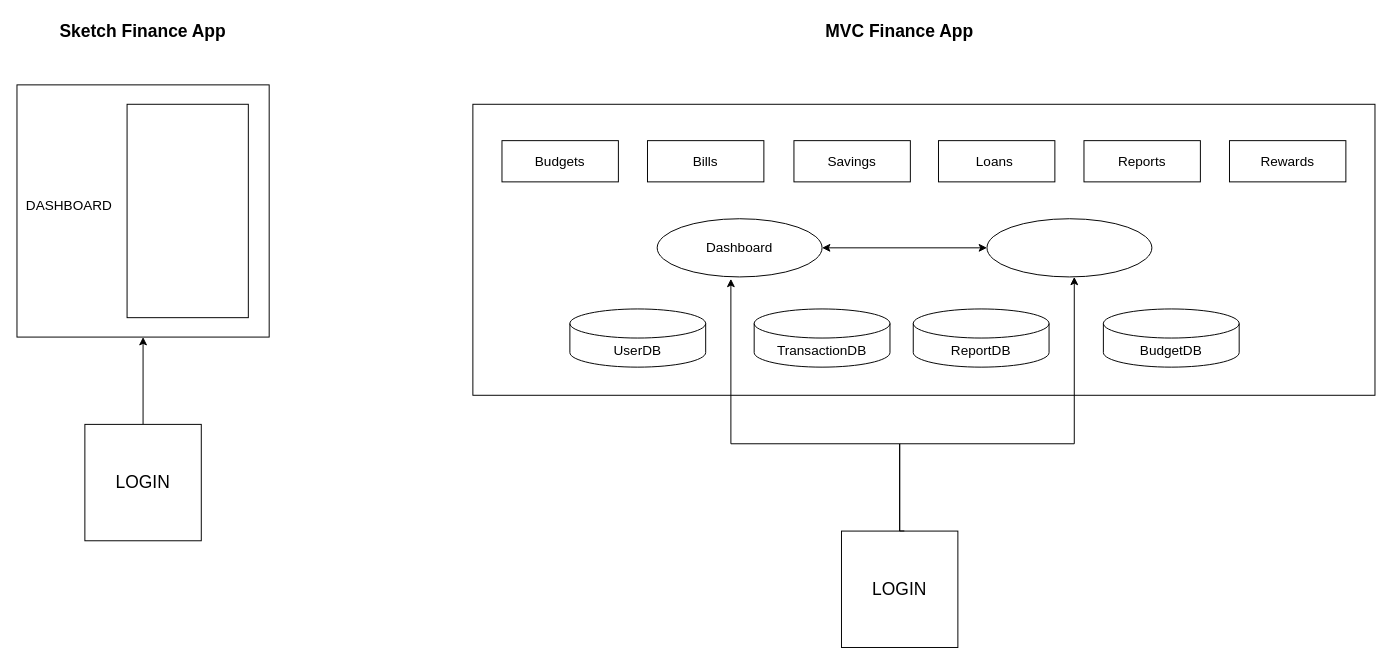
The diagram is 1392 pixels wide and 664 high, and some of its shapes have lost their labels. The shapes that lost their labels are listed below. From the top down, each one's box as (x1, y1, x2, y2) in pixels, then its label:
(126, 103, 248, 318): Profile Bill Debts Budgets Savings Loans Reports Rewards AI
(986, 218, 1152, 277): AI
